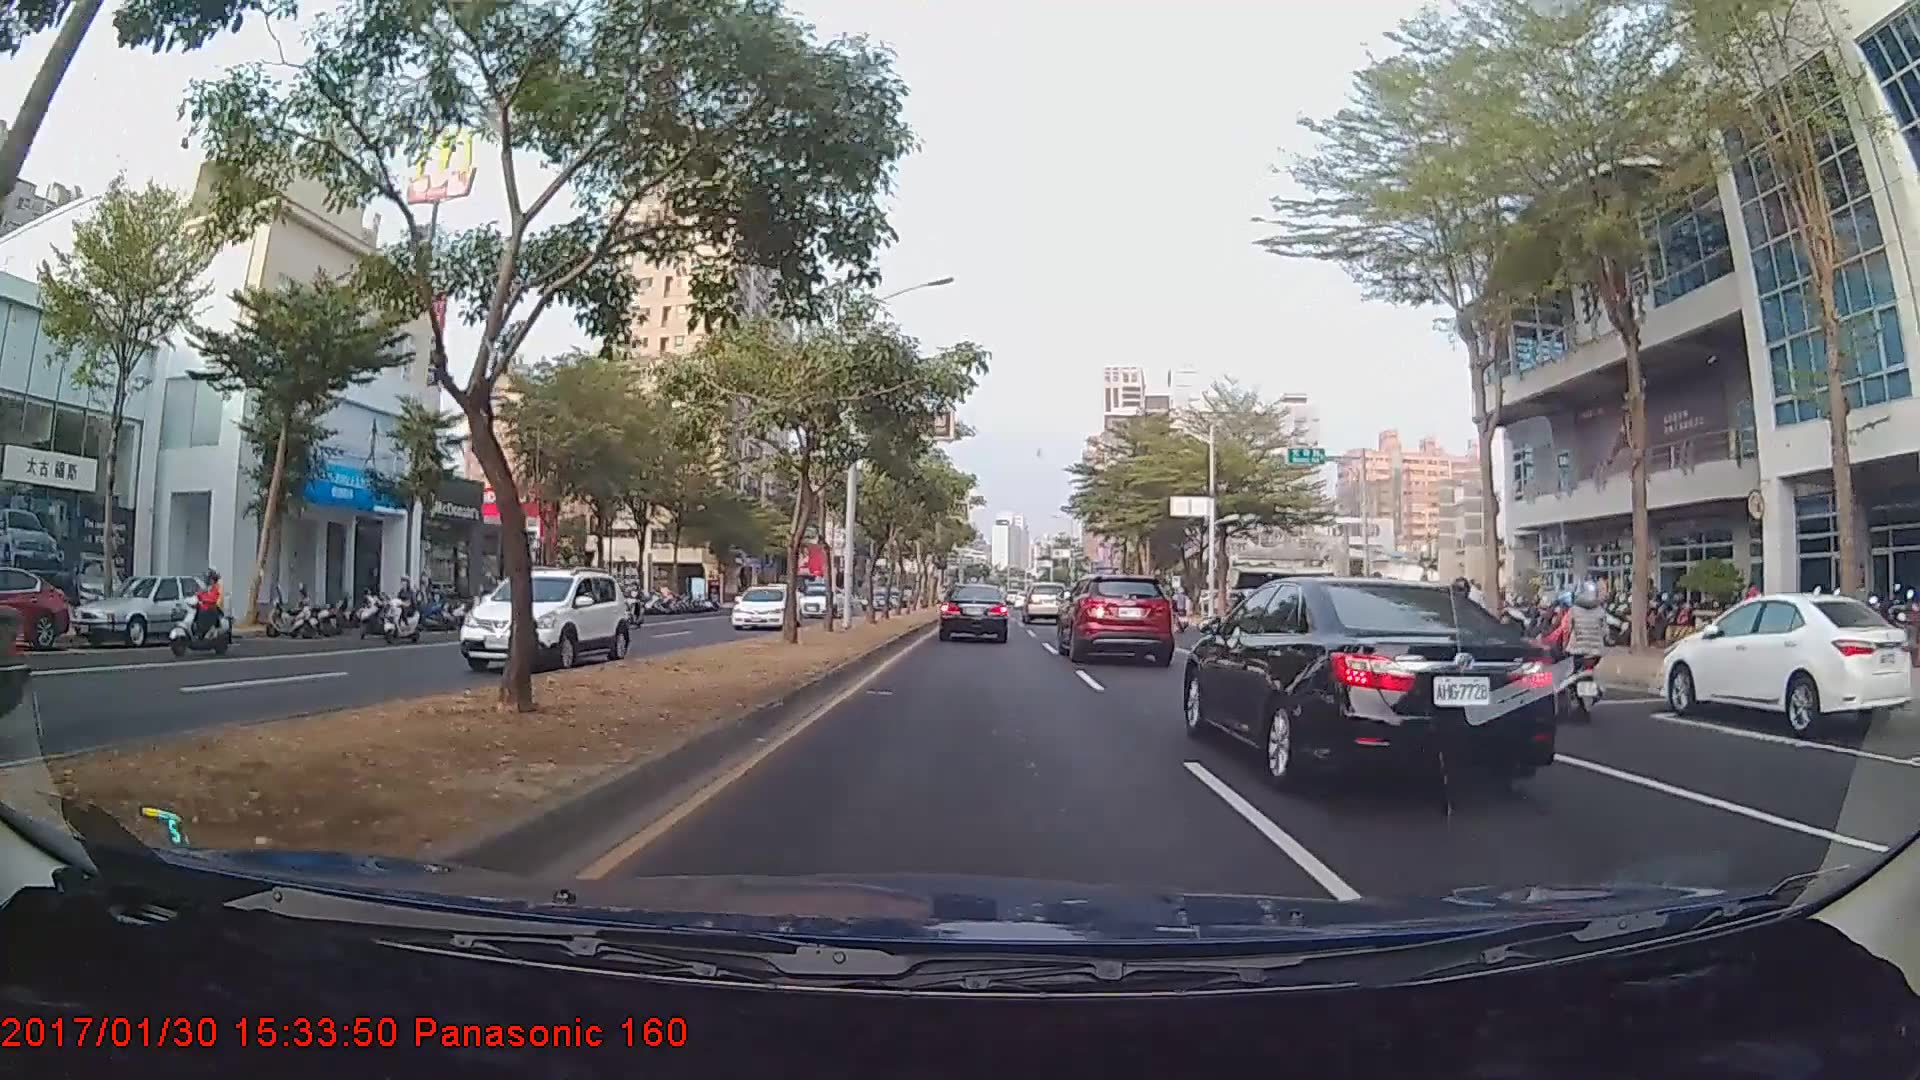rider: (1393, 572, 1480, 724), (1518, 584, 1602, 720), (156, 563, 237, 658)
vehicle: (1181, 564, 1545, 791), (1659, 591, 1912, 737), (452, 565, 633, 675), (68, 574, 234, 650), (1059, 573, 1174, 663), (0, 563, 69, 652), (938, 582, 1010, 644), (730, 585, 799, 630), (791, 587, 848, 619), (1022, 581, 1063, 623)
